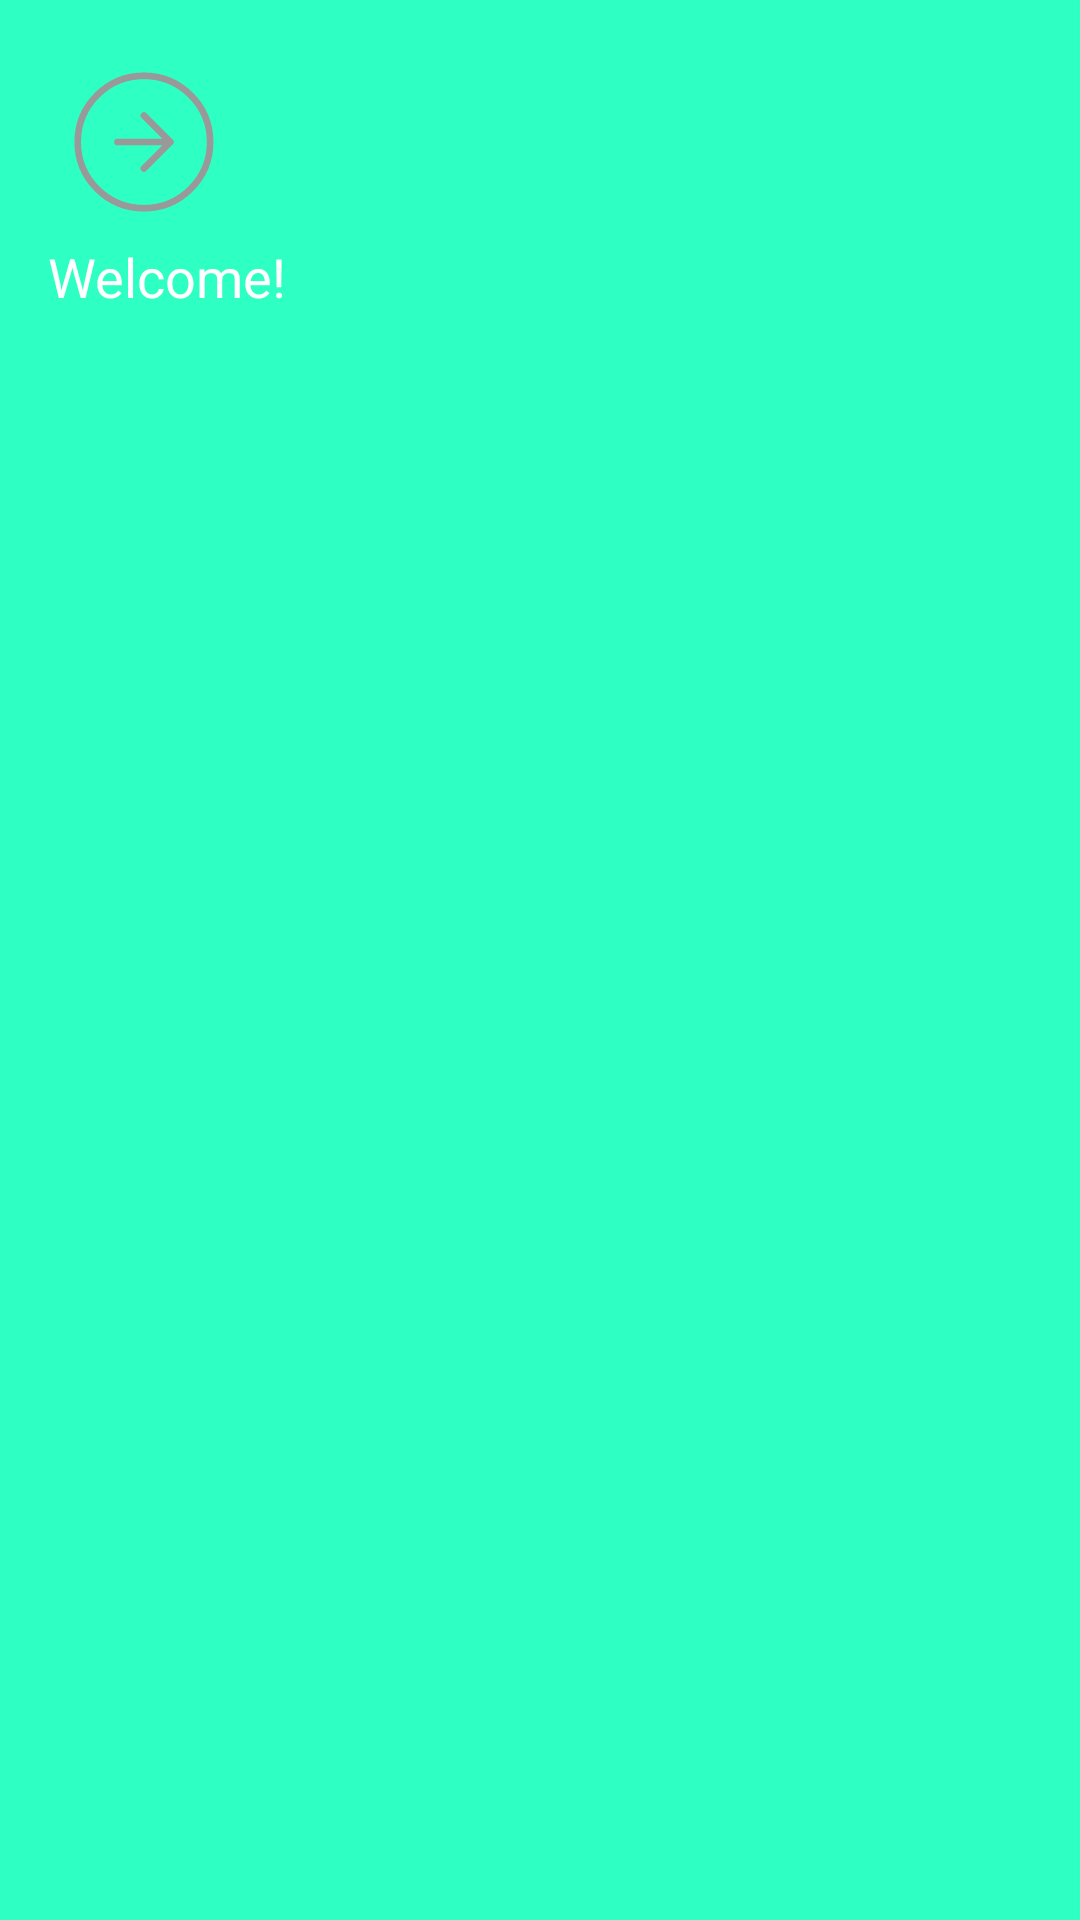

Screen size 1080×1920. Icon name, then its center in pixels as [x,y]:
arrow right circle: [144,142]
